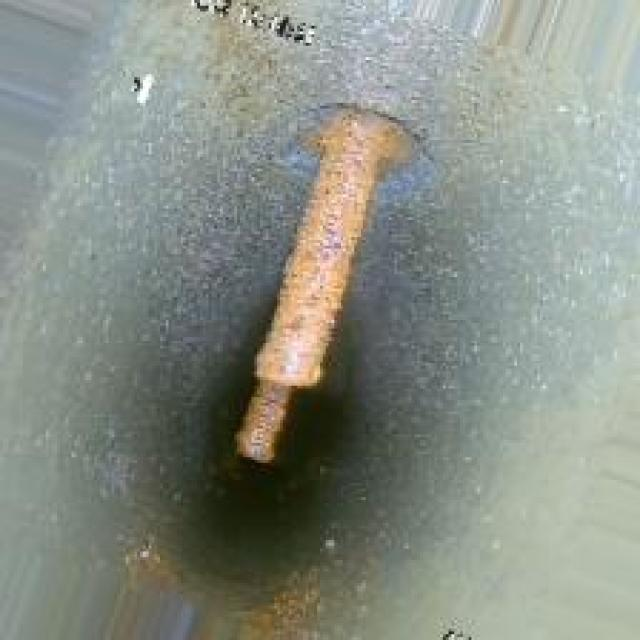ferrule: (229, 97, 417, 466)
